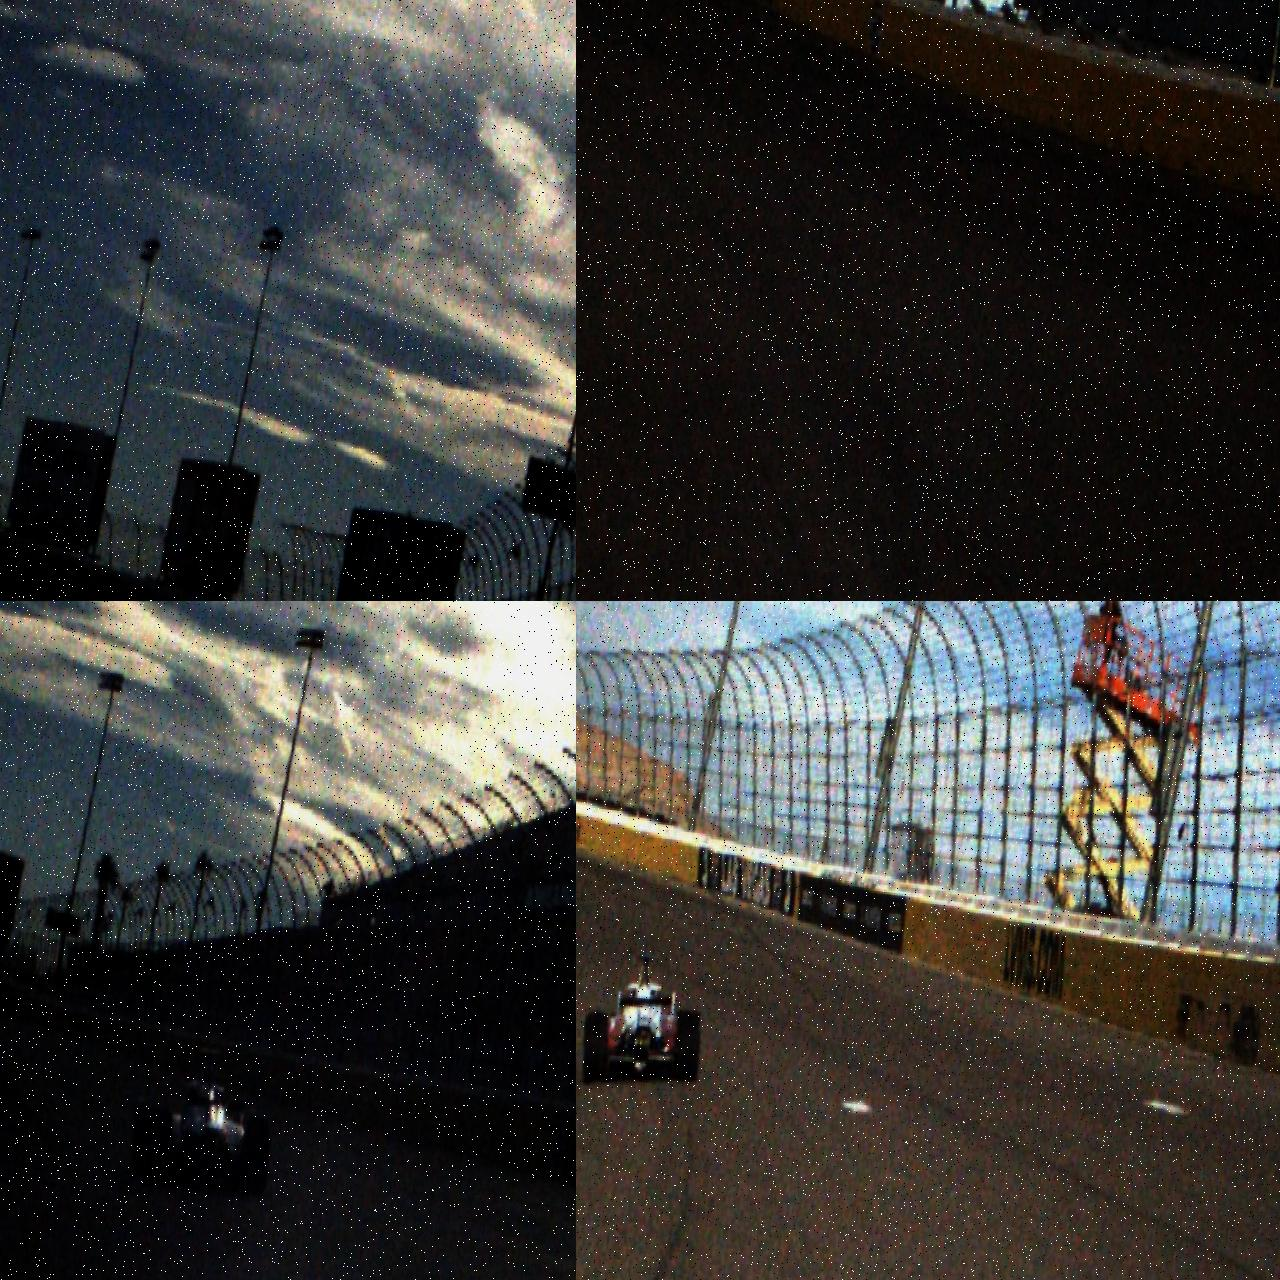AV: (128, 1041, 281, 1198), (580, 948, 709, 1097)
Wheel: (239, 1116, 273, 1199), (139, 1110, 173, 1186), (129, 1097, 158, 1178), (672, 1012, 702, 1081), (581, 1012, 610, 1085)
